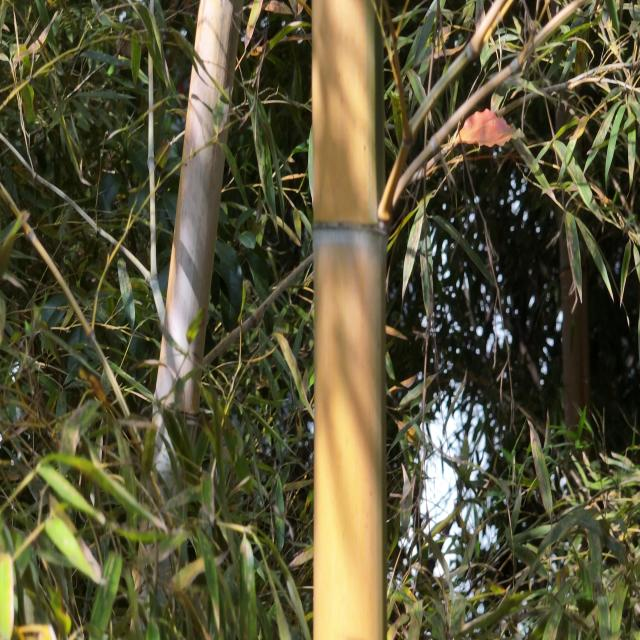Bamboo-shoots: (130, 0, 241, 640)
